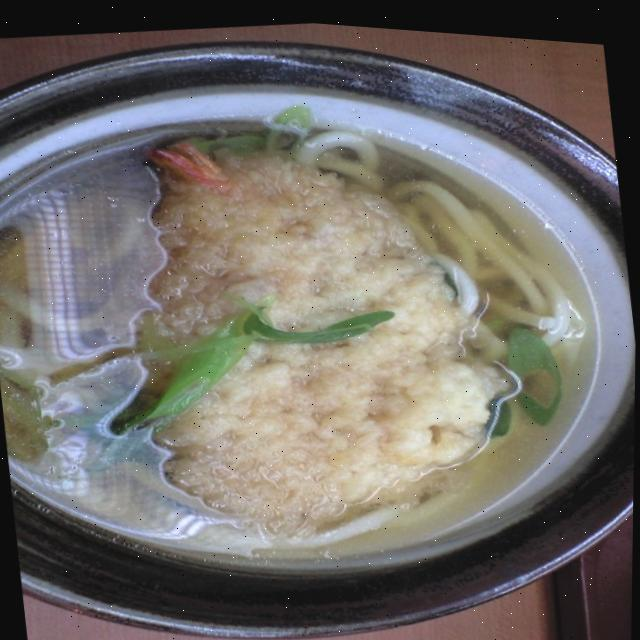面条主食: (0, 61, 627, 602)
